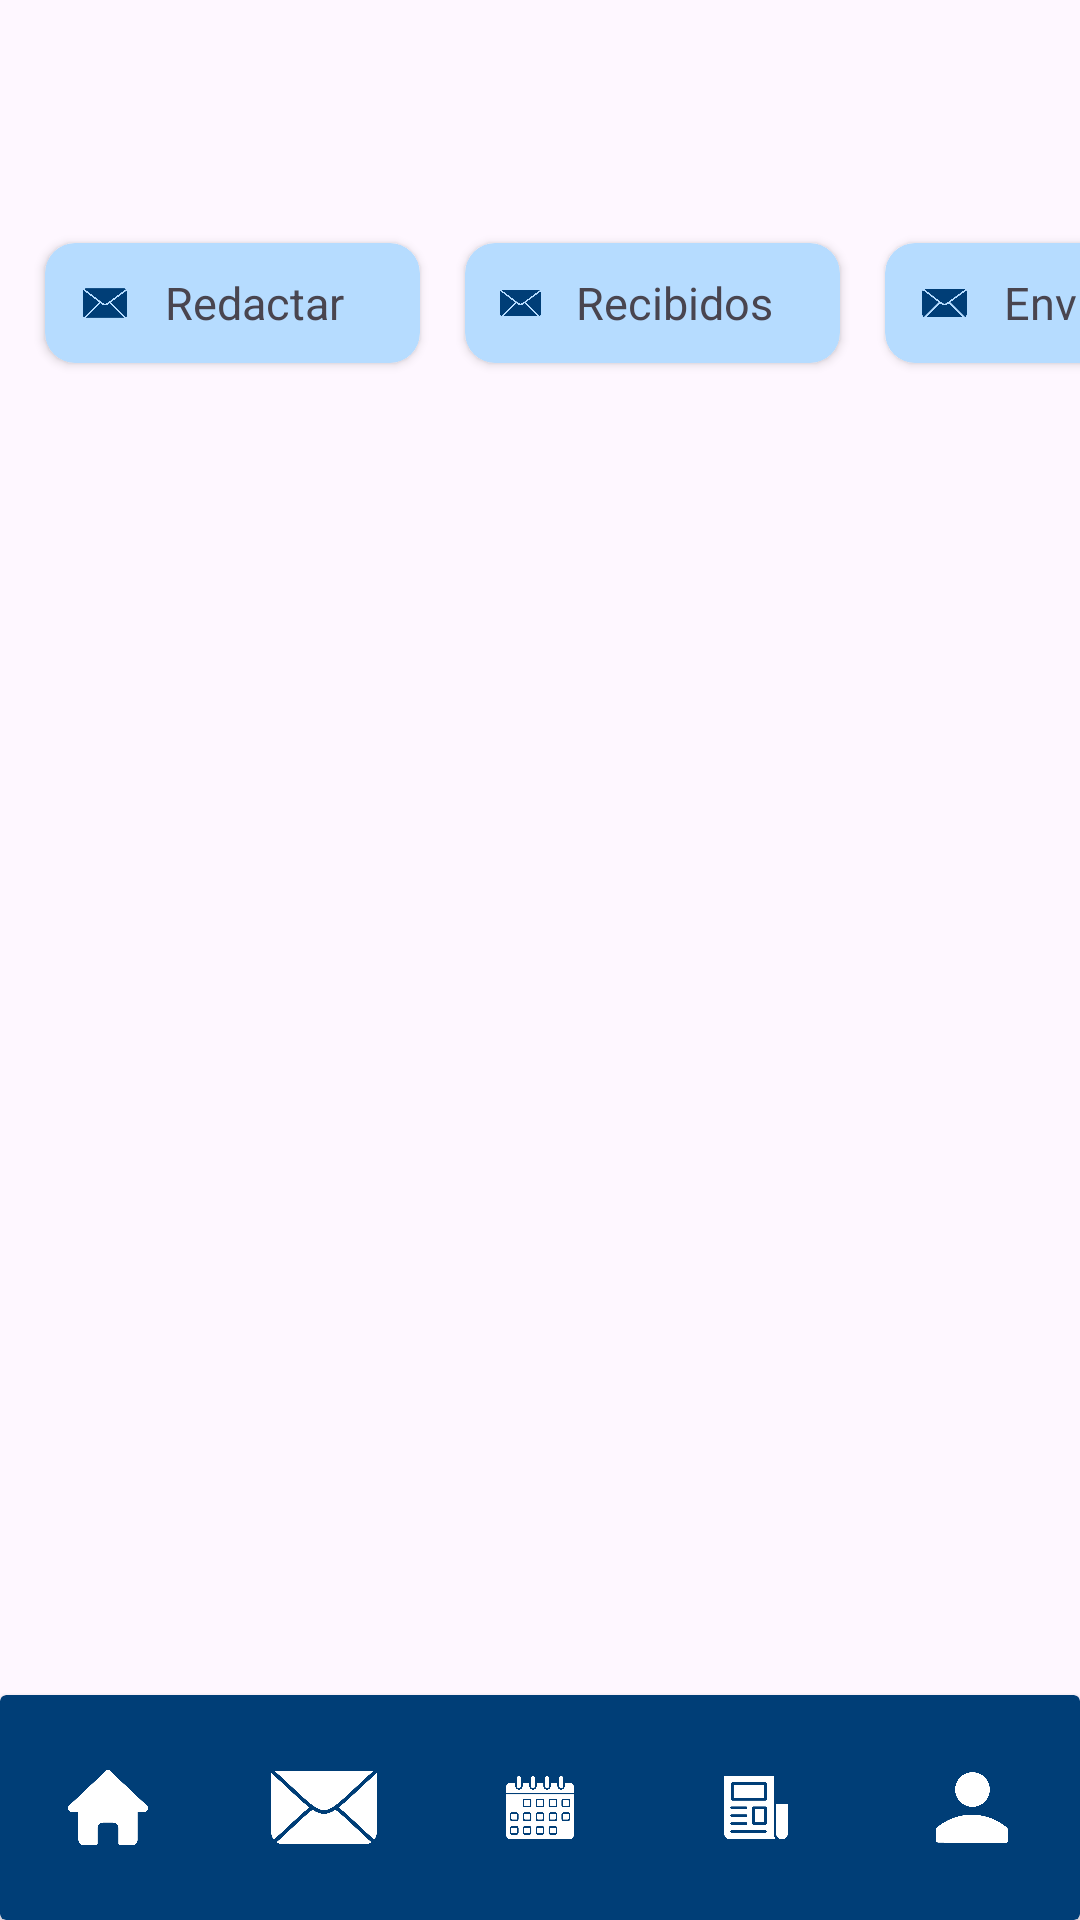

Named icons in this screenshot (1080 x 1920) and their bounding boxes, (x1, y1, x2, y2):
correo: (45, 243, 165, 363), (465, 243, 576, 363), (885, 243, 1004, 363)
correonav: (271, 1771, 377, 1844)
eventosnav: (506, 1776, 574, 1839)
noticiasnav: (724, 1776, 788, 1839)
